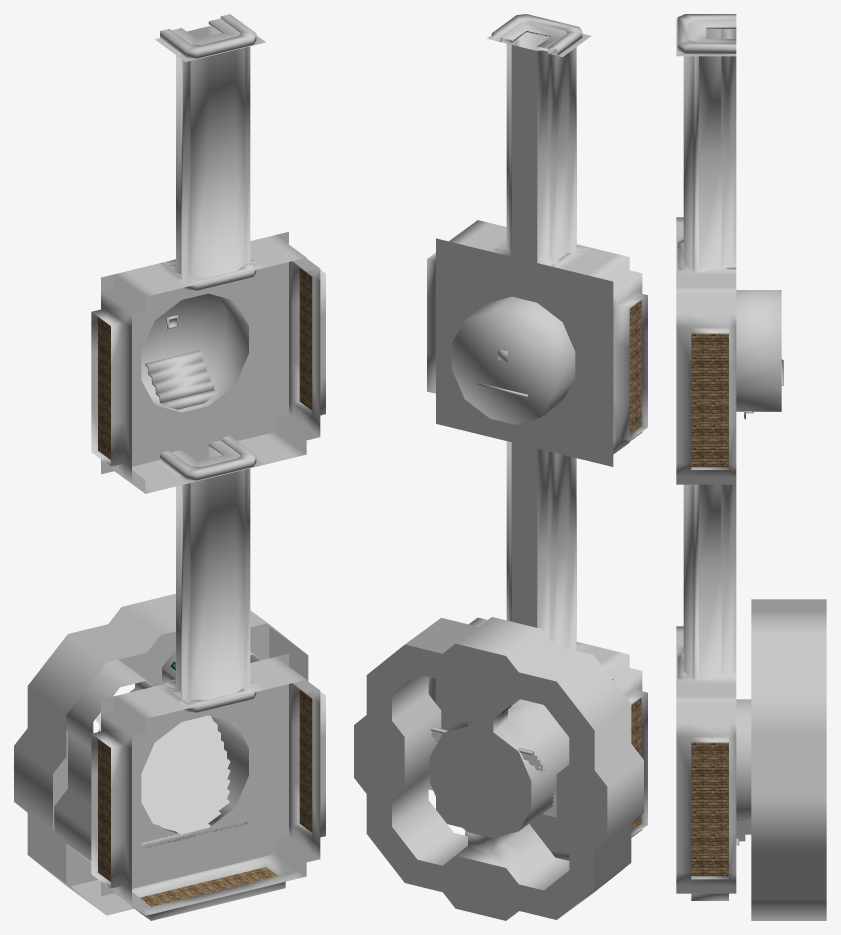
File: level1.fbx
3 views of the same model, side by side, from view 1: azimuth 30°, elevation 25°; view 2: azimuth 150°, elevation 25°; view 3: azimuth 270°, elevation 25° (orthographic). The views are drawn at different scales.
Visible parts, largest first — view 1: walls, floor, stairs, glass; view 2: walls, floor, glass, stairs; view 3: walls, glass, stairs.
Part boxes in pixels (x1,y1,x2,y2): walls: (14, 14, 325, 920); floor: (53, 26, 288, 896); stairs: (96, 350, 247, 848); glass: (98, 268, 312, 906); walls: (392, 14, 647, 918); floor: (354, 45, 613, 920); glass: (629, 300, 641, 830); stairs: (431, 382, 556, 817); walls: (676, 14, 826, 920); glass: (691, 333, 728, 875); stairs: (736, 359, 783, 845).
Bounding box in the file's own units: 20 × 63.5 × 10.
